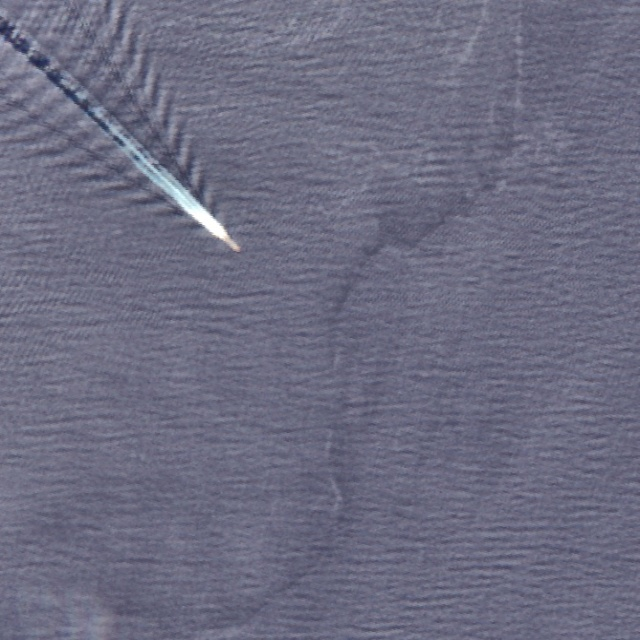wake: (17, 33, 293, 304)
